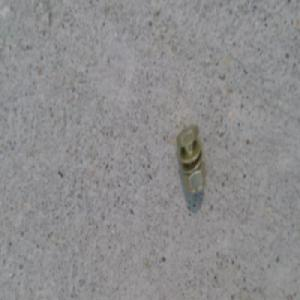BoltNutSet: (175, 124, 205, 194)
